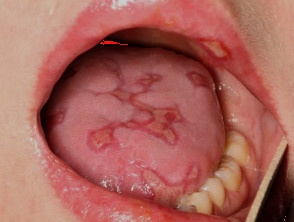SJS-TEN: (84, 55, 184, 154), (127, 147, 207, 218), (193, 21, 246, 81), (184, 60, 218, 98)
